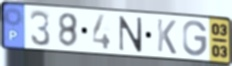3: (28, 8, 52, 48)
4: (91, 12, 112, 52)
8: (57, 11, 80, 48)
G: (182, 19, 209, 58)
K: (156, 17, 178, 56)
N: (117, 15, 144, 54)
